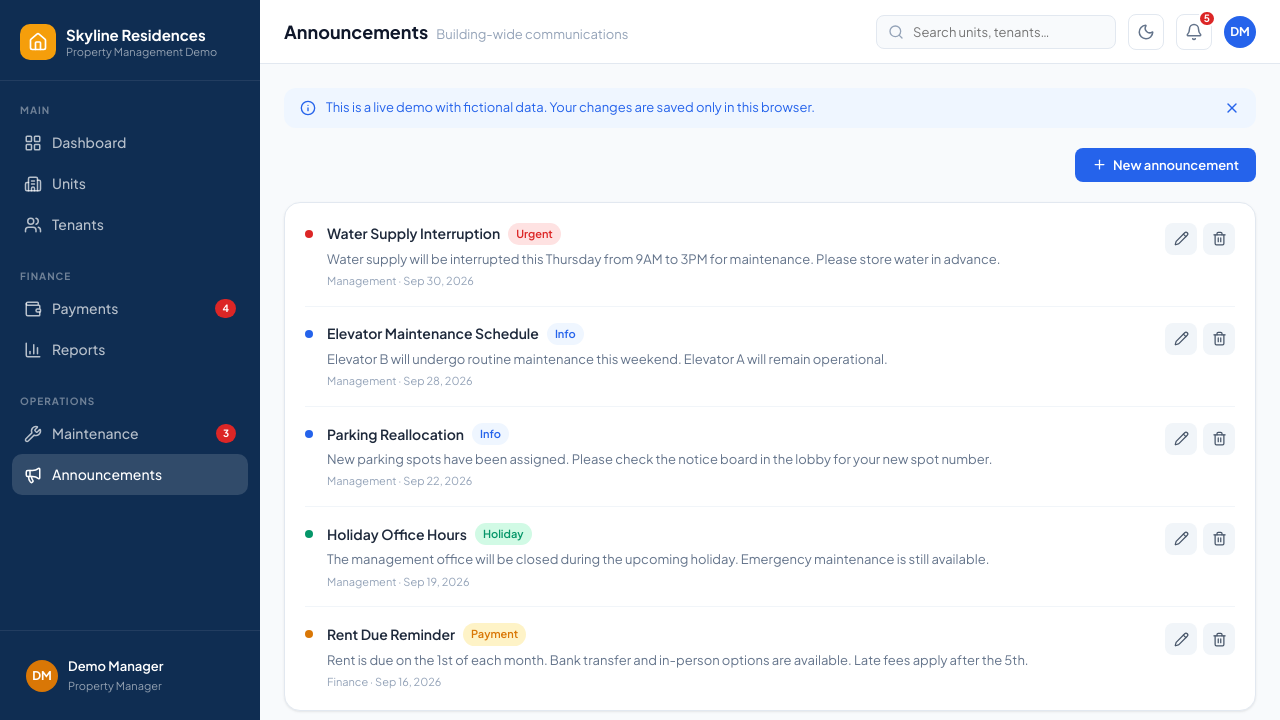
Test: app › validates the announcement form
Step 1. Click the button "New announcement" → (1165, 164), box [1075,148,1256,182]
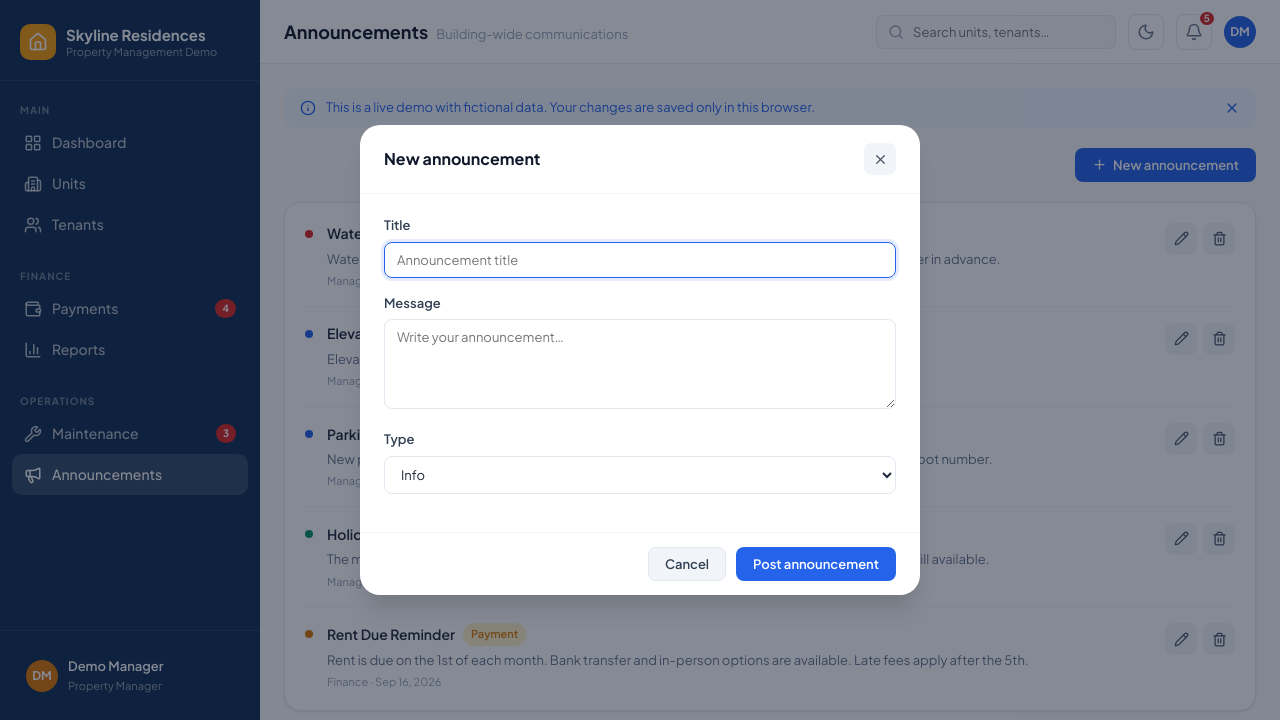
Step 2. Click the button "Post announcement" → (816, 564), box [736,547,896,581]
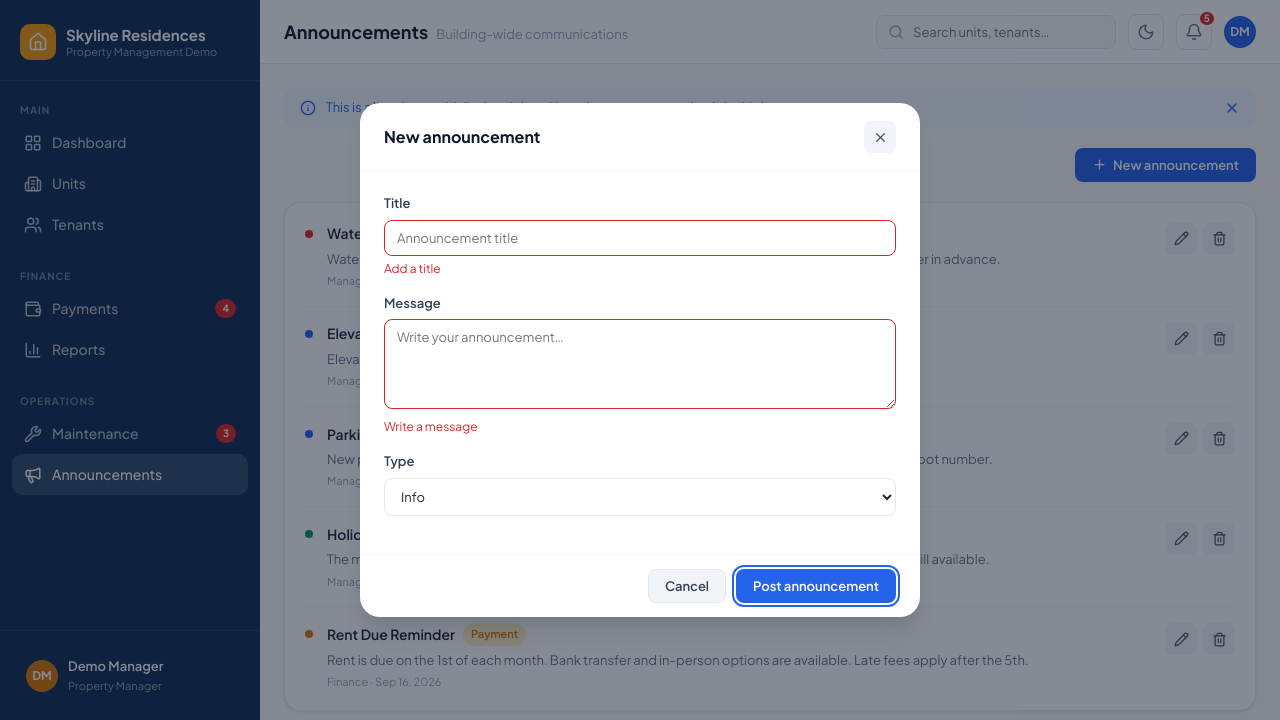
expect the text "Add a title" is shown: met, box [384,261,441,276]
Step 3. Type "Hello" into the field labelled "Title" → (640, 238), box [384,220,896,256]
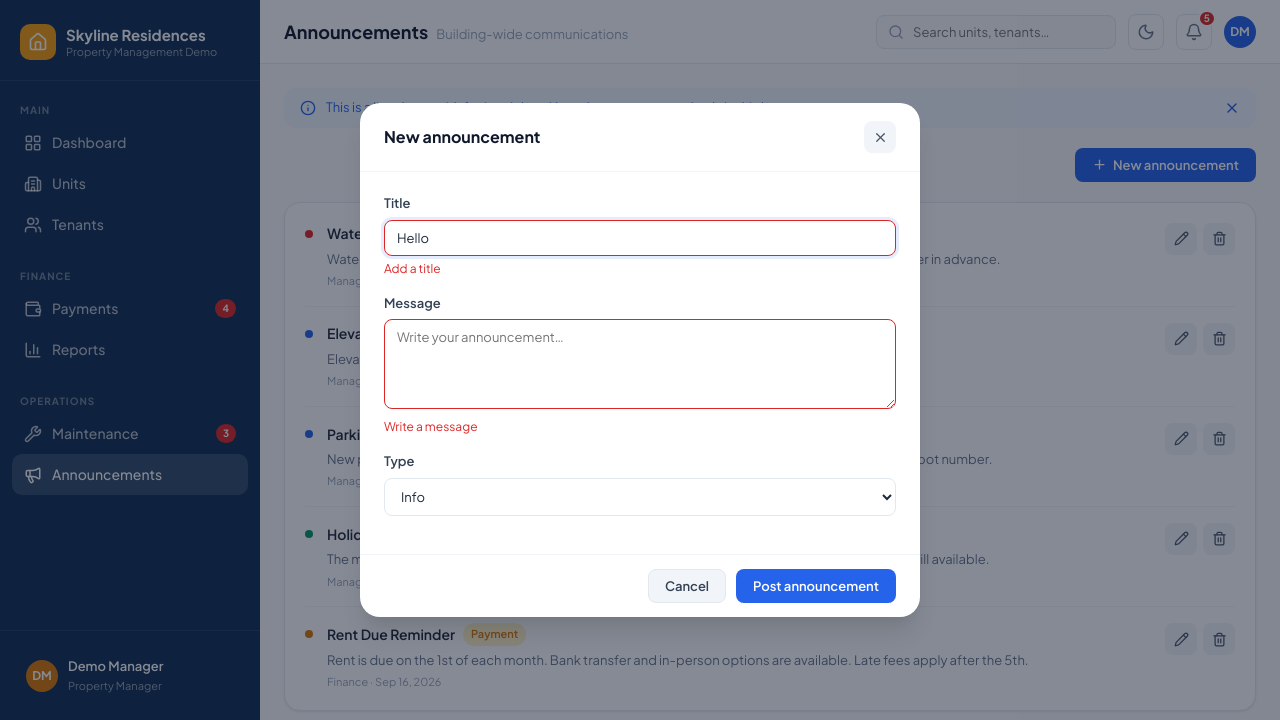
Step 4. Type "World" into the text box labelled "Message" → (640, 364), box [384,319,896,409]
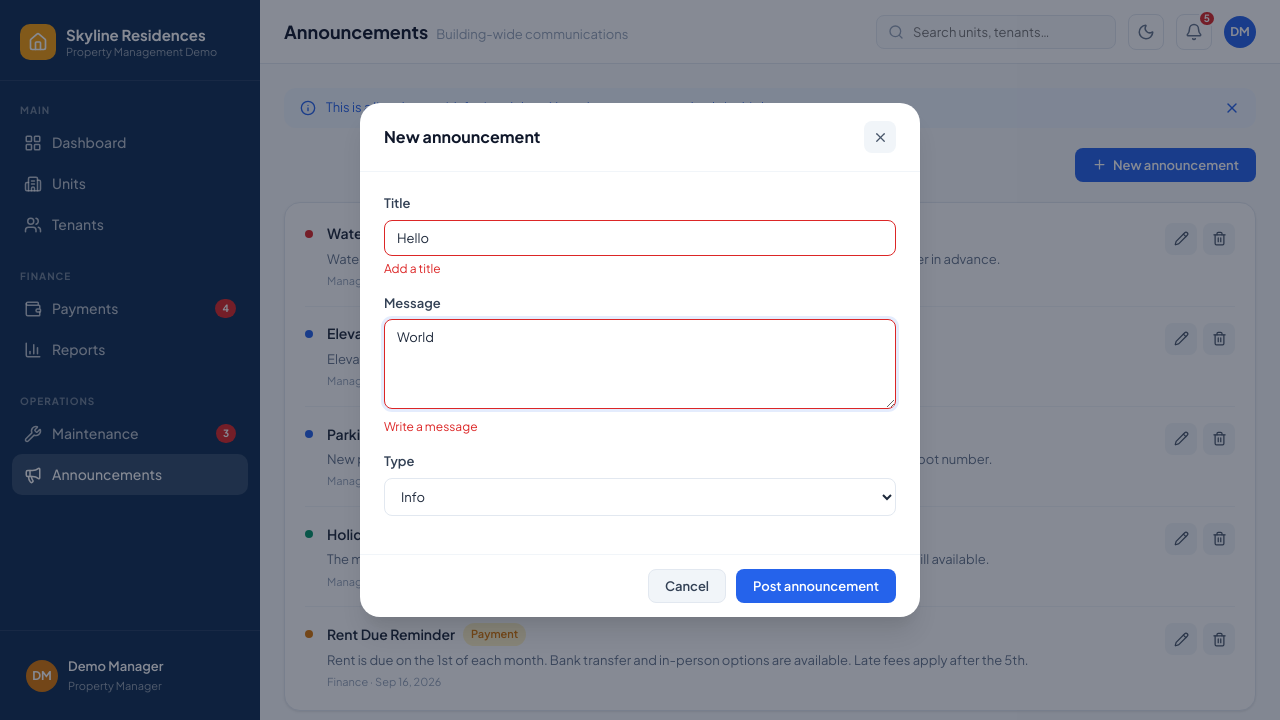
Step 5. Click the button "Post announcement" → (816, 586), box [736,569,896,603]
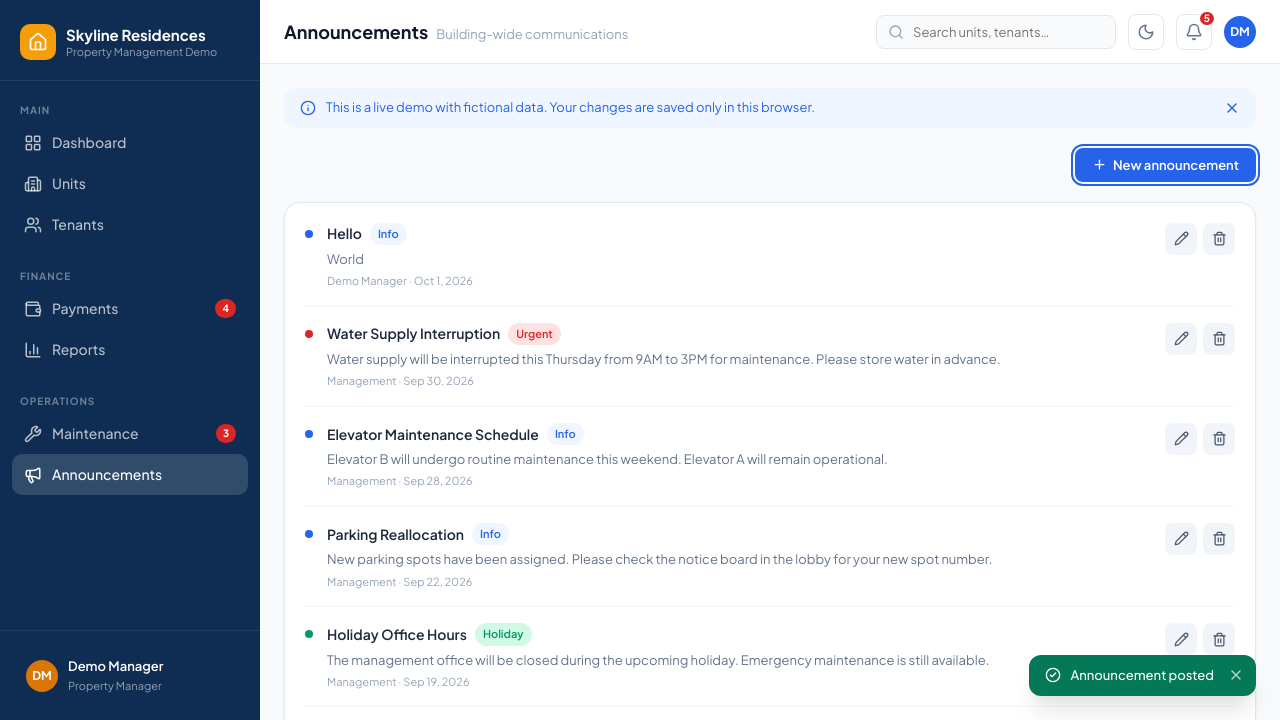
expect the heading "Hello" is shown: met, box [327,223,362,244]
